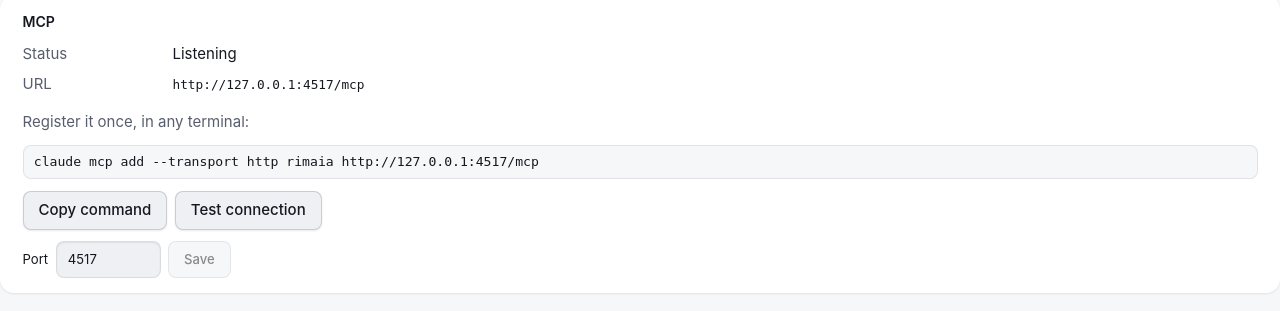
Test: McpSection › copies the claude mcp add command to the clipboard without a backend round trip
What coordinates should you click on to do the following:
click the button "Copy command"
I would click on:
 (95, 210)
Its box is [22, 190, 167, 230].
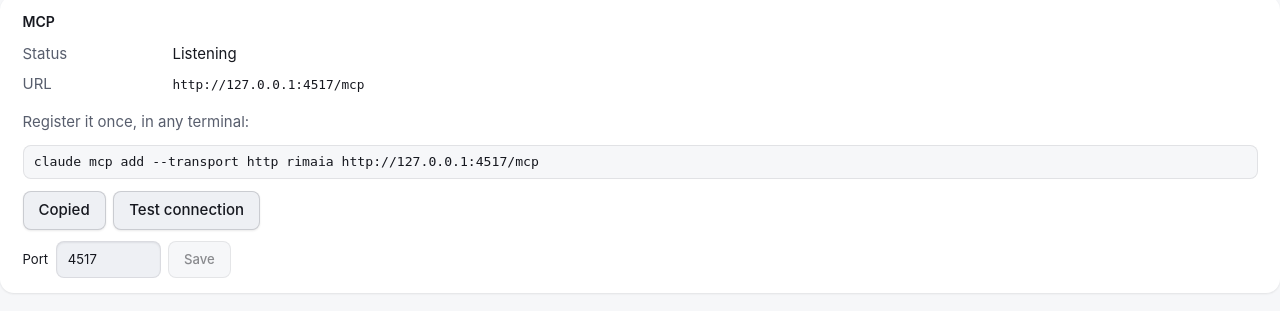
Result: the button "Copied" is shown at [22, 190, 106, 230]
